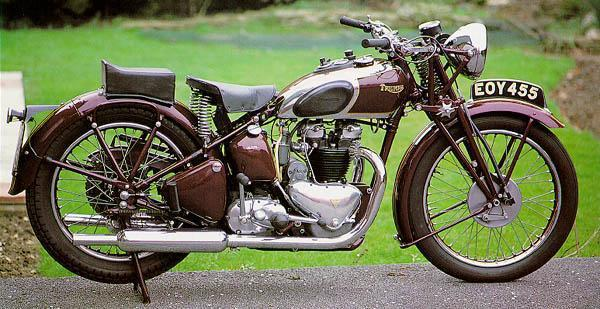motorcycle: (1, 14, 584, 293)
